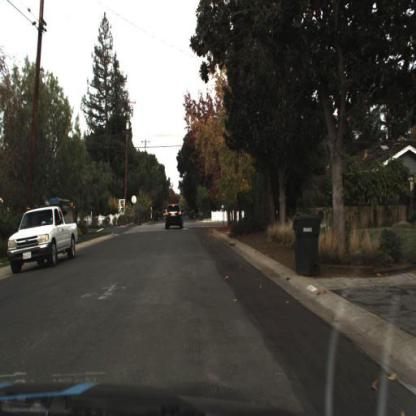car: (8, 195, 83, 278), (5, 199, 82, 275), (164, 202, 187, 234)
